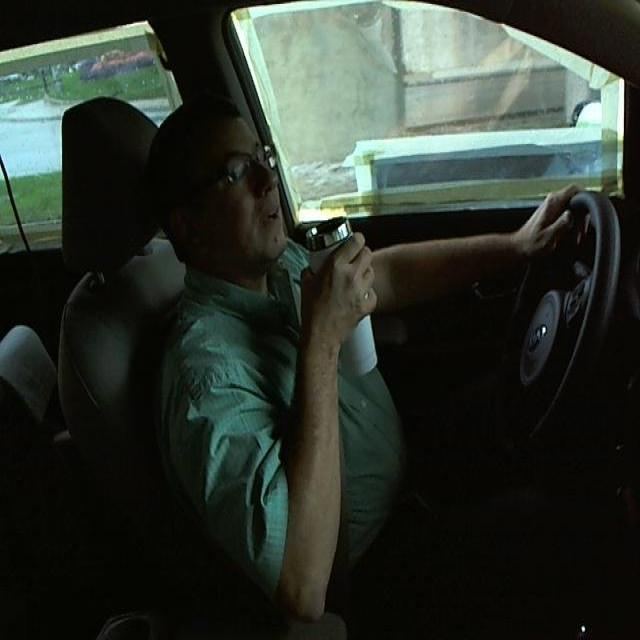drinking: (302, 213, 384, 380)
